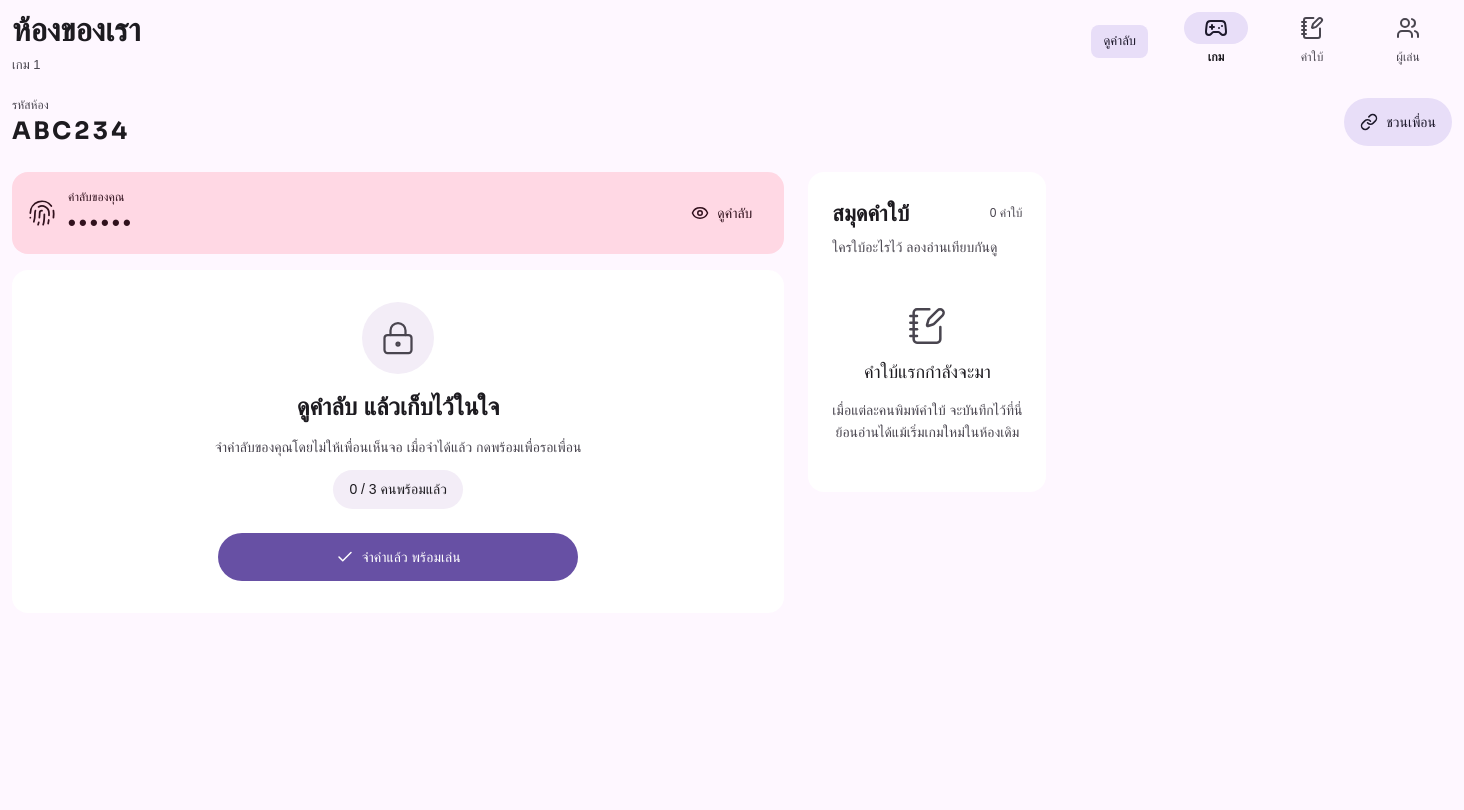
successful clipboard retry clears a stale fallback
The width and height of the screenshot is (1464, 810).
Click the button "ชวนเพื่อน".
click(1398, 122)  # box top-left (1344, 98), bottom-right (1452, 146)
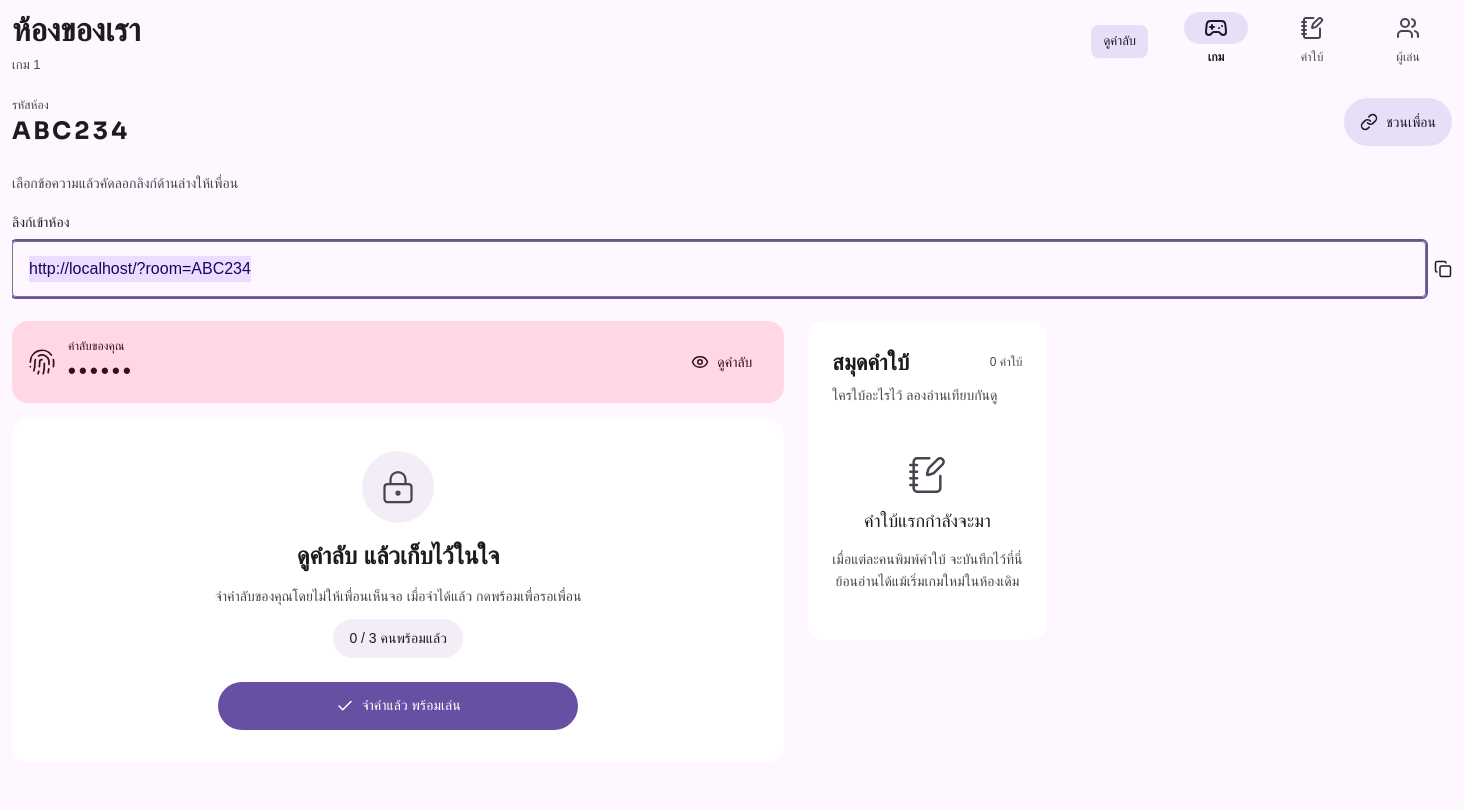
Expected: the field labelled "ลิงก์เข้าห้อง" is shown, top-left (12, 241), bottom-right (1426, 297)
Click the button "ชวนเพื่อน".
click(1398, 122)  # box top-left (1344, 98), bottom-right (1452, 146)
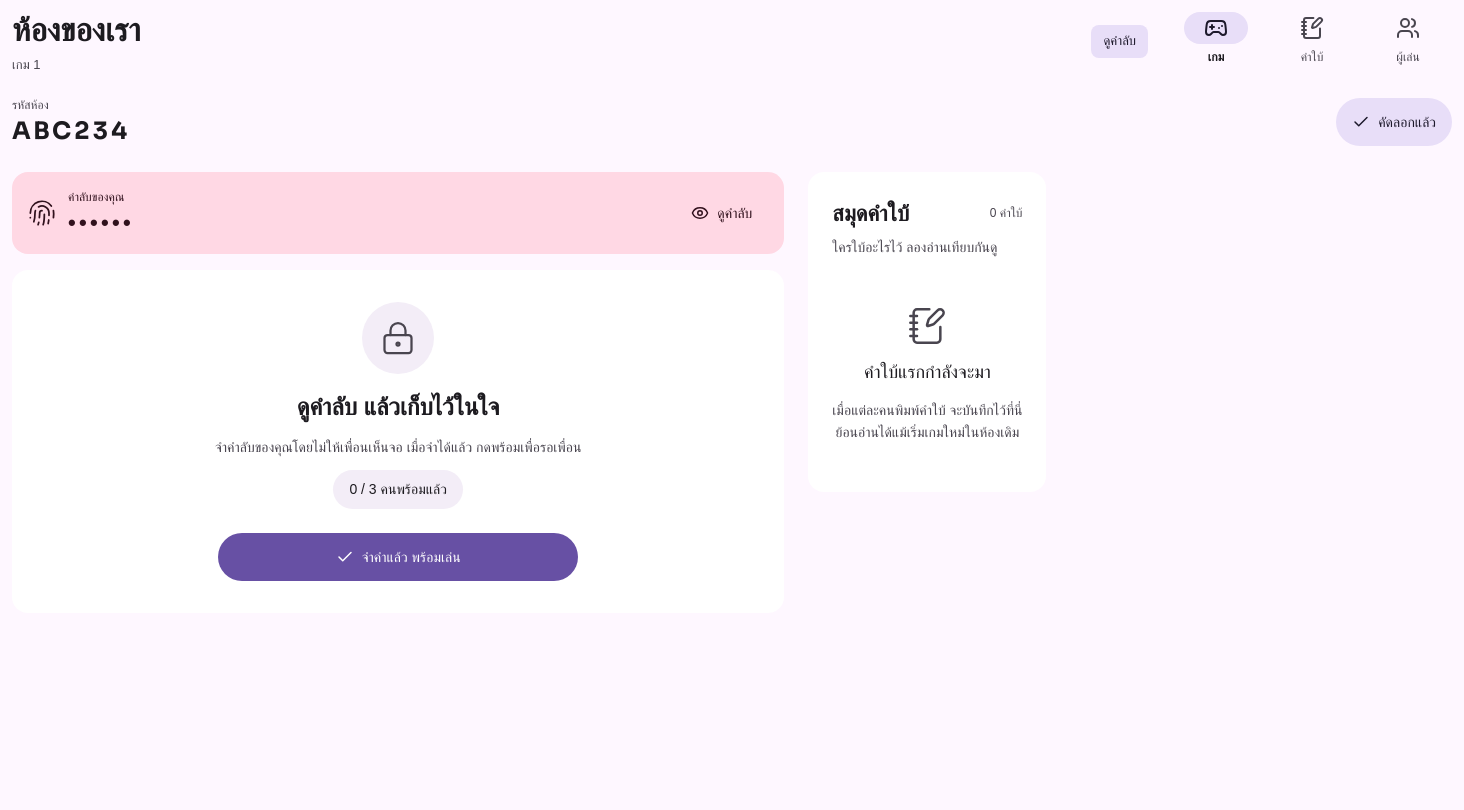
Expected: the button "คัดลอกแล้ว" is shown, top-left (1336, 98), bottom-right (1452, 146)
Expected: the label "ลิงก์เข้าห้อง" is gone
